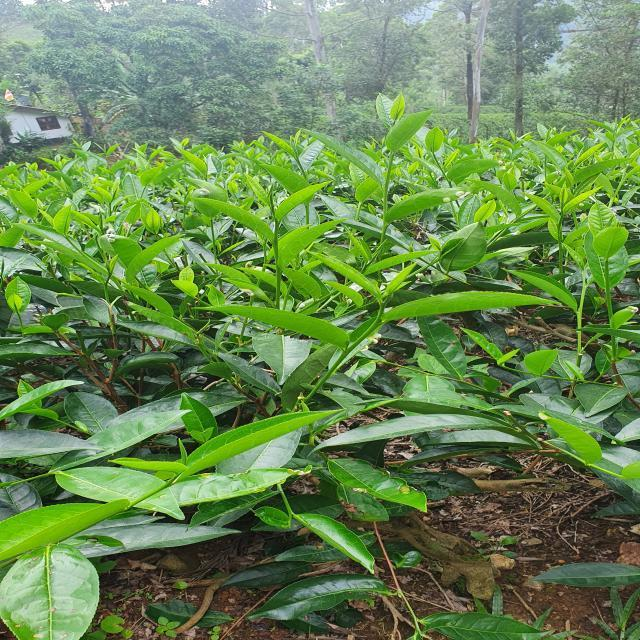Stem: (380, 303, 385, 309), (275, 222, 279, 227), (64, 236, 69, 240), (295, 157, 299, 162), (561, 214, 564, 217)
